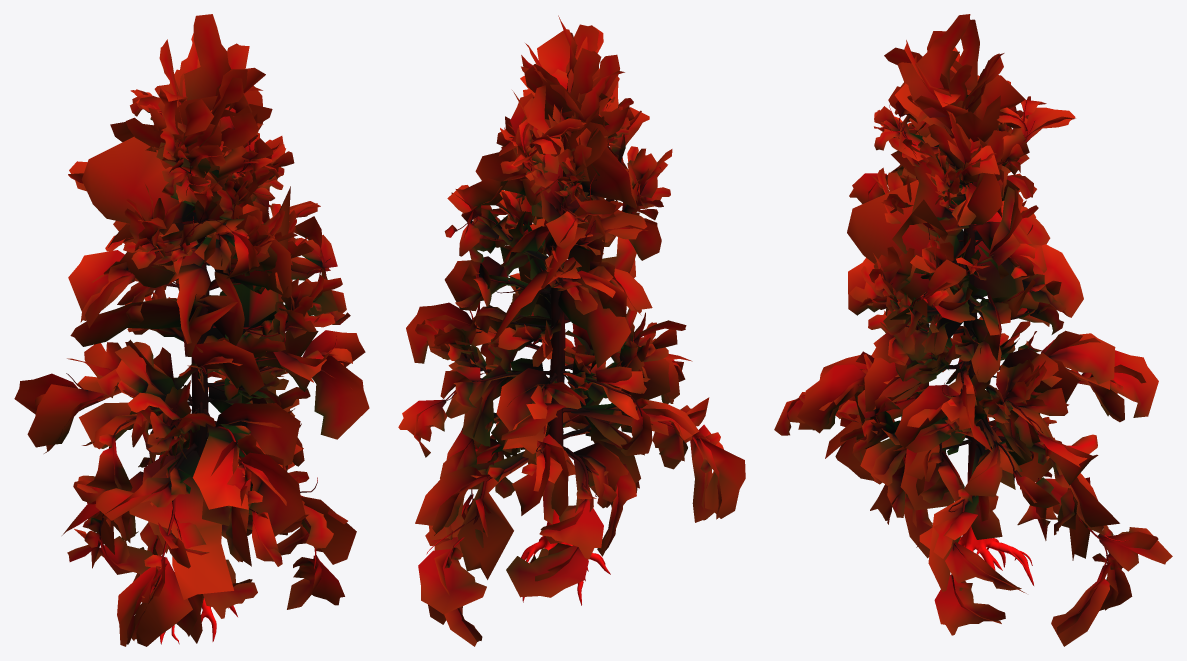
Rendered from JuniperGCATA_F.fbx.
The picture shows the model from 3 angles, left to right: view 1: azimuth 30°, elevation 25°; view 2: azimuth 150°, elevation 25°; view 3: azimuth 270°, elevation 25°; orthographic projection. The views are drawn at different scales.
Parts seen in each view (by area): view 1: JuniperGCATAF_Leaves_LOD0, JuniperGCATAF_Bark_LOD0; view 2: JuniperGCATAF_Leaves_LOD0, JuniperGCATAF_Bark_LOD0; view 3: JuniperGCATAF_Leaves_LOD0, JuniperGCATAF_Bark_LOD0.
Boxes of the visible parts, x1,y1,x2,y2 form: JuniperGCATAF_Leaves_LOD0: (14, 14, 369, 646); JuniperGCATAF_Bark_LOD0: (66, 137, 336, 644); JuniperGCATAF_Leaves_LOD0: (398, 15, 745, 646); JuniperGCATAF_Bark_LOD0: (426, 144, 698, 605); JuniperGCATAF_Leaves_LOD0: (774, 14, 1172, 646); JuniperGCATAF_Bark_LOD0: (857, 105, 1129, 585).
Size of what is drawn, in the model's own units: 11.76 by 23.5 by 14.14.
